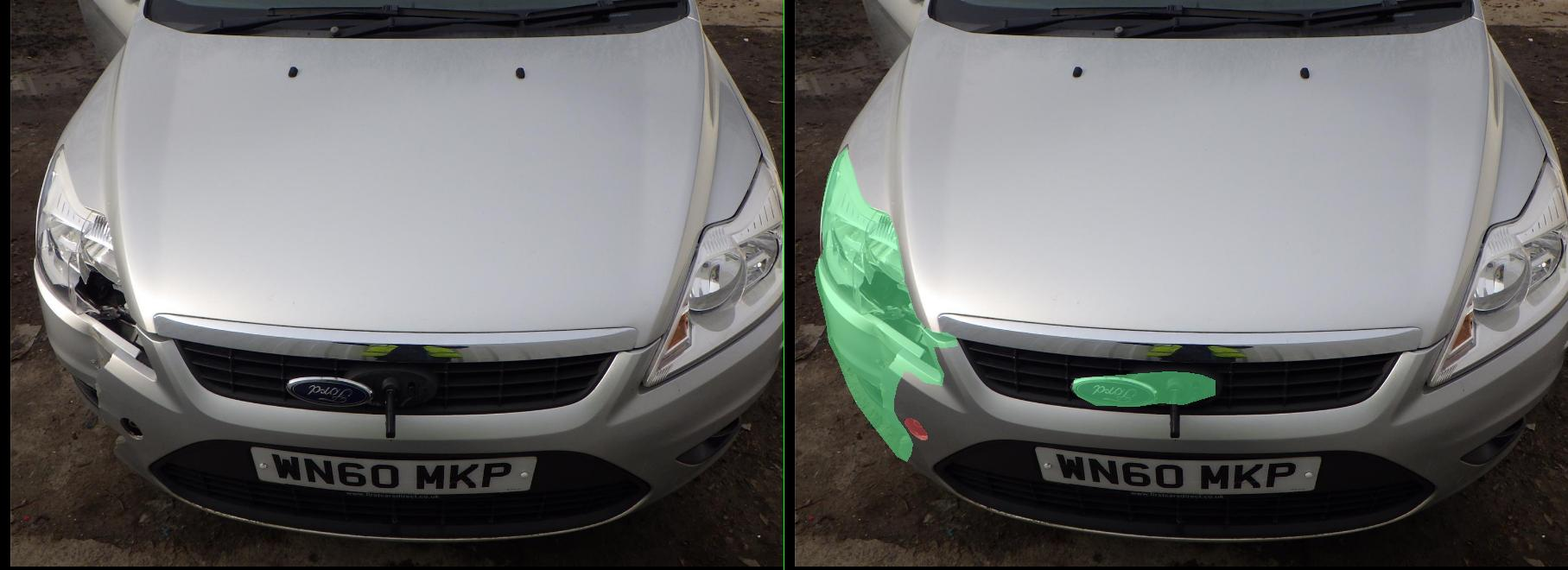Broken part: (61, 257, 346, 461), (74, 147, 280, 339), (576, 371, 861, 406)
Missing part: (240, 418, 285, 440)
